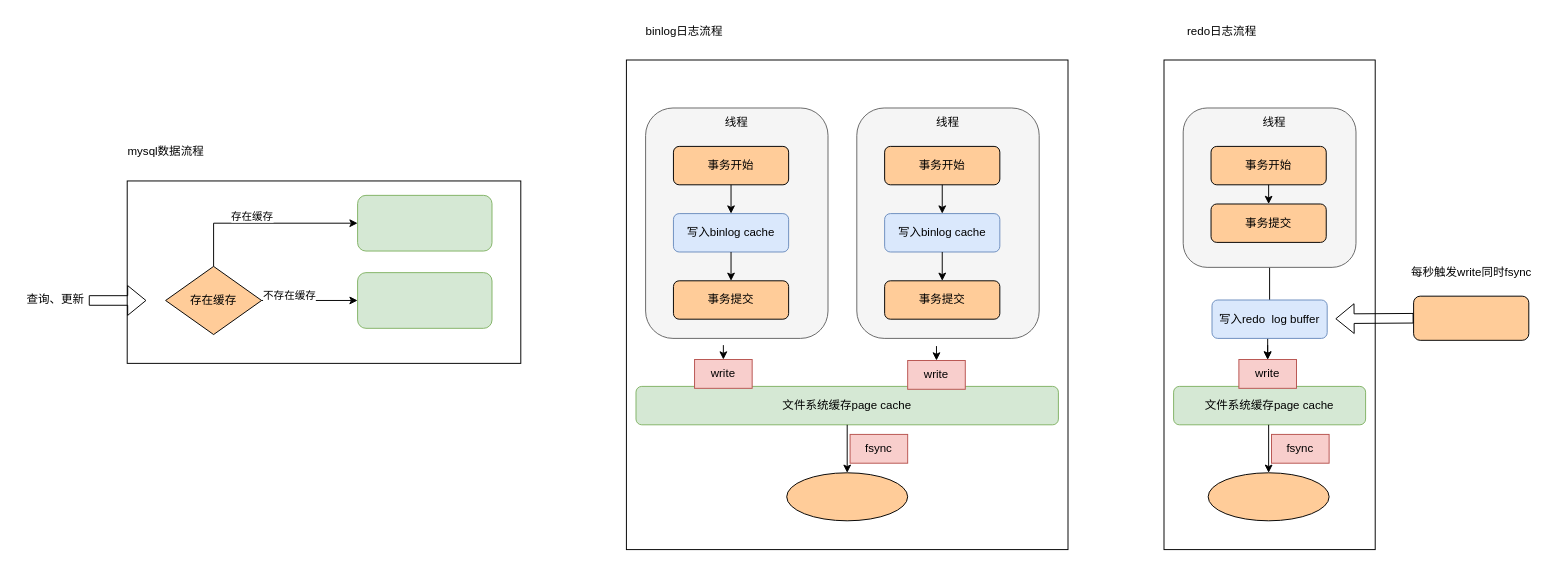
The diagram is 1559 pixels wide and 566 high, and some of its shapes have lost their labels. Here are the shapes that lost their labels. From the top down, the centre of each, then its label:
the point at 424,222: buffer pool
the point at 424,300: 磁盘
the point at 1471,317: 后台线程
the point at 847,496: 磁盘binlog文件
the point at 1268,496: 磁盘redo.file
